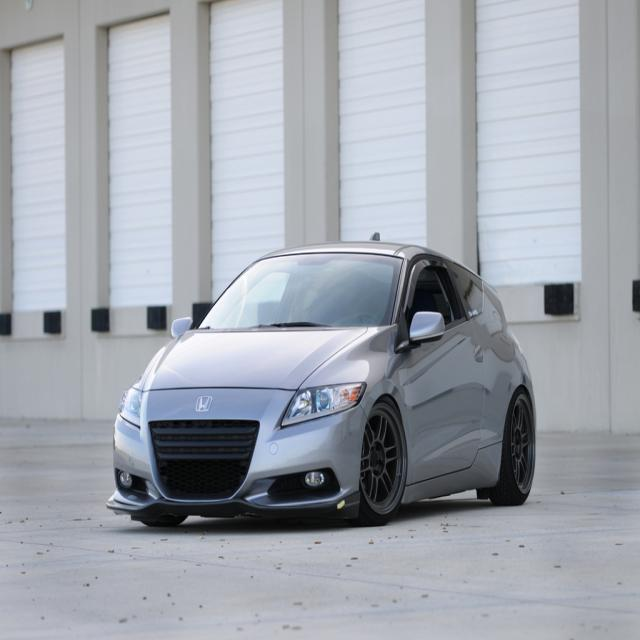car: (102, 223, 538, 523)
